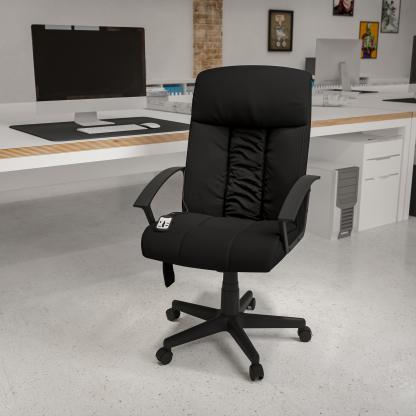chair: (100, 63, 347, 408)
table: (0, 86, 414, 249)
